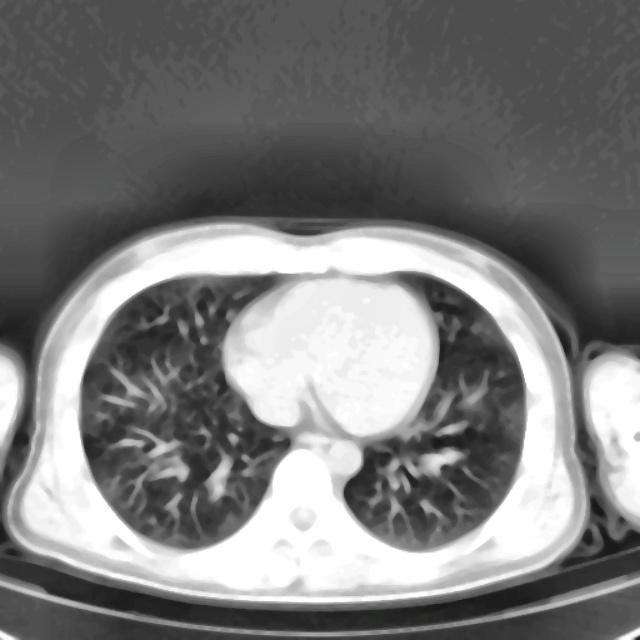covid: (2, 215, 632, 609)
